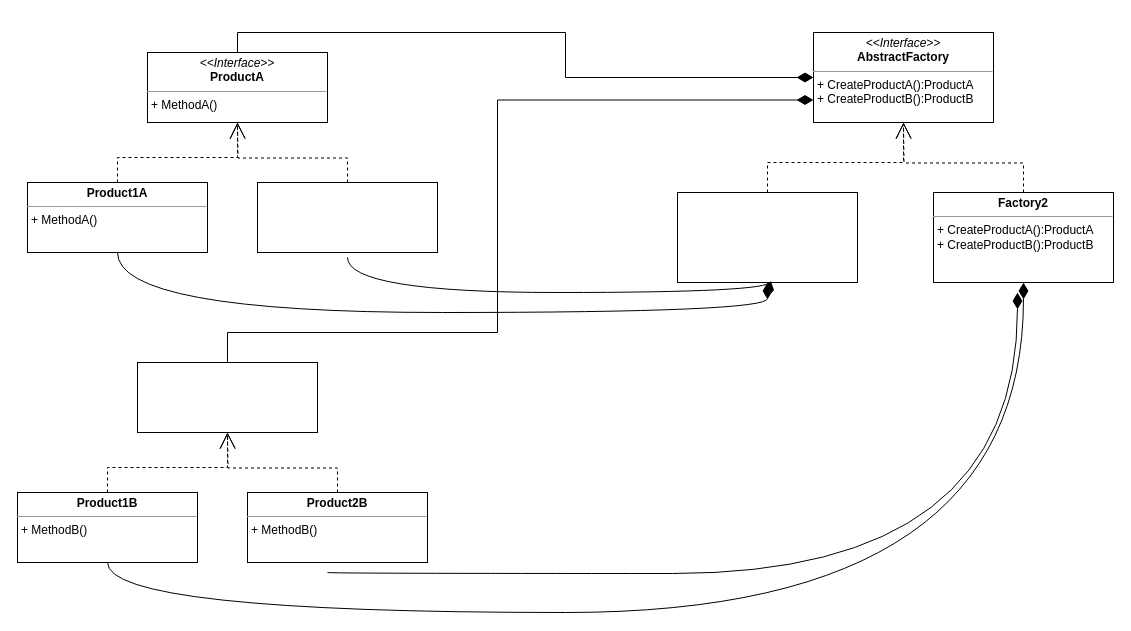
This 1131x631 diagram has some shape labels left out. Each missing label, with the box of its shape:
<<Interface>> ProductB + MethodB(): (136, 362, 318, 432)
Factory1 + CreateProductA():ProductA + CreateProductB():ProductB: (676, 192, 858, 282)
Product2A + MethodA(): (256, 182, 438, 252)
